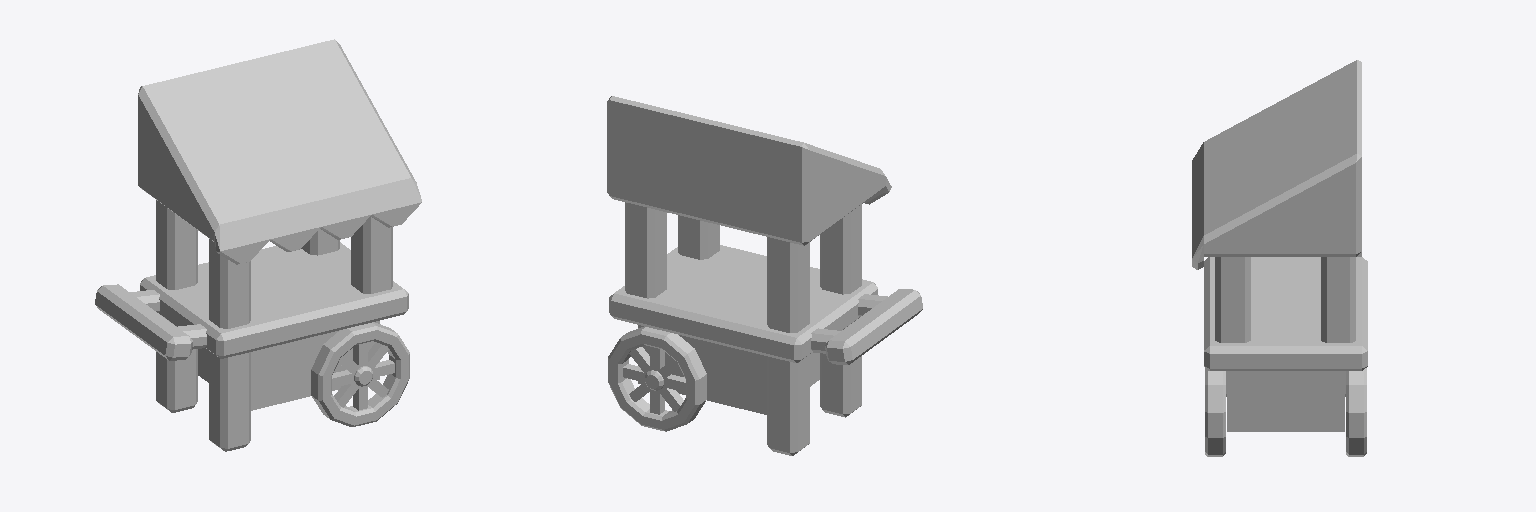
The model's file is shop_cart.obj.
The picture shows the model from 3 angles: view 1: azimuth 30°, elevation 25°; view 2: azimuth 150°, elevation 25°; view 3: azimuth 270°, elevation 25°; orthographic projection.
Parts seen in each view (by area): view 1: shop_cart; view 2: shop_cart; view 3: shop_cart.
Boxes of the visible parts, x1=… form: shop_cart: x1=95, y1=39, x2=421, y2=451; shop_cart: x1=607, y1=96, x2=922, y2=455; shop_cart: x1=1192, y1=60, x2=1367, y2=456.
Bounding box in the file's own units: 2.42 × 3 × 1.5.